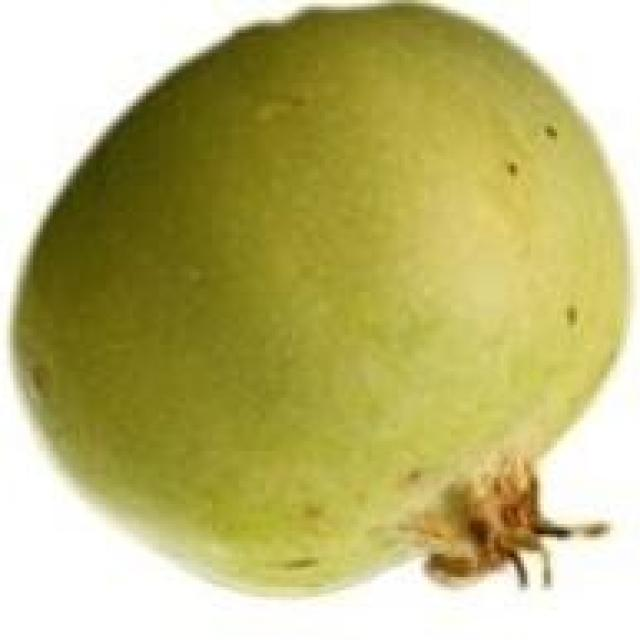Rotten Apple: (17, 2, 630, 605)
